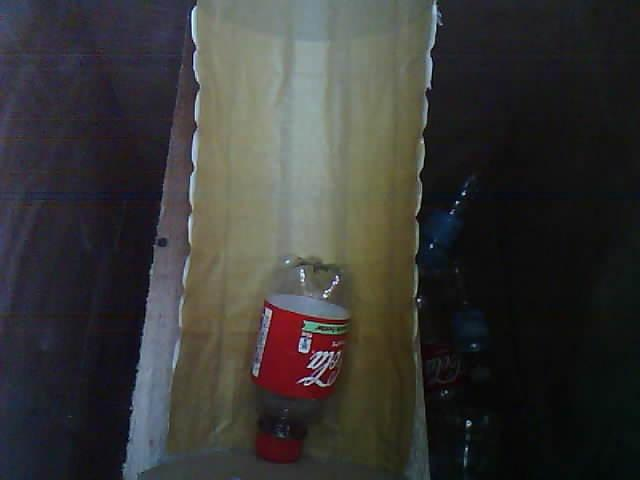small_bottle: (232, 233, 379, 480)
